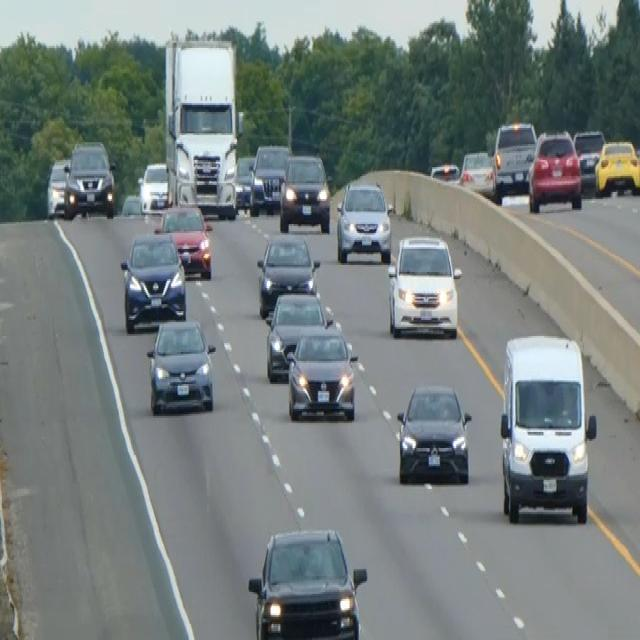car: (247, 524, 367, 638), (386, 233, 462, 338), (396, 380, 471, 486), (286, 324, 358, 422), (146, 316, 216, 414), (119, 230, 186, 332), (264, 288, 334, 380), (256, 230, 320, 316), (336, 178, 392, 263), (527, 128, 582, 212), (154, 201, 213, 279), (278, 151, 330, 233), (63, 138, 115, 218), (492, 119, 537, 196), (249, 142, 290, 214), (594, 138, 639, 196), (573, 128, 605, 188), (459, 148, 495, 198), (138, 160, 169, 213), (46, 156, 70, 217), (233, 153, 255, 208), (429, 160, 459, 181)
minibus: (497, 329, 597, 524)
